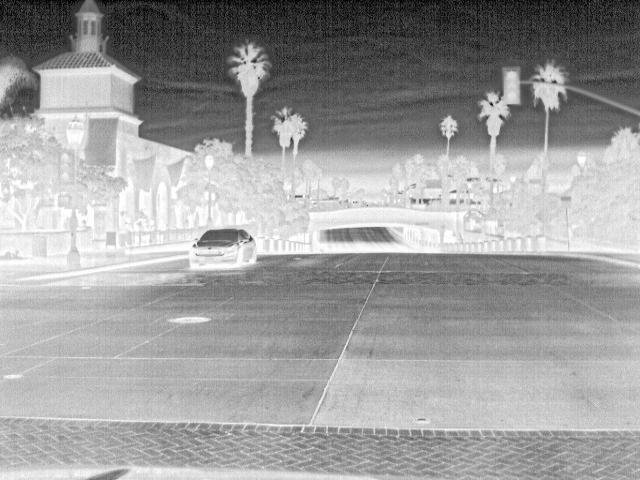car: (188, 229, 256, 266)
person: (122, 216, 134, 234), (144, 218, 157, 234), (156, 216, 168, 232)
